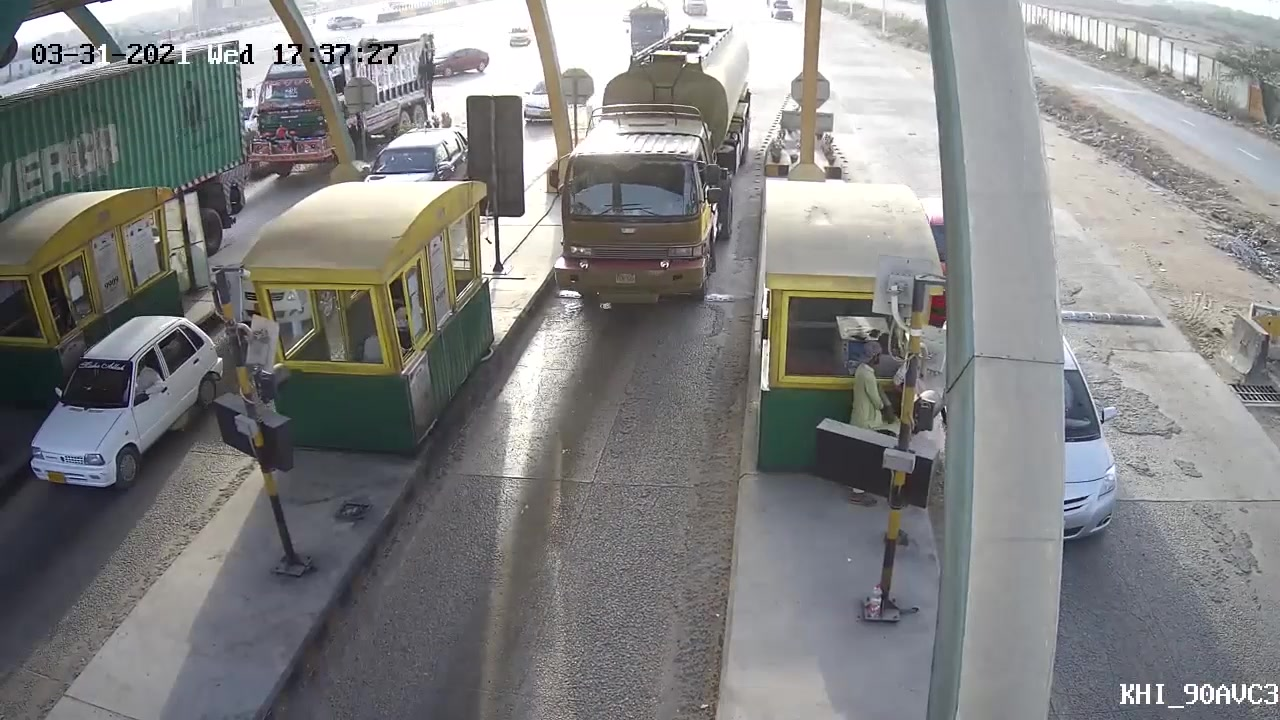F5: (526, 22, 759, 333)
